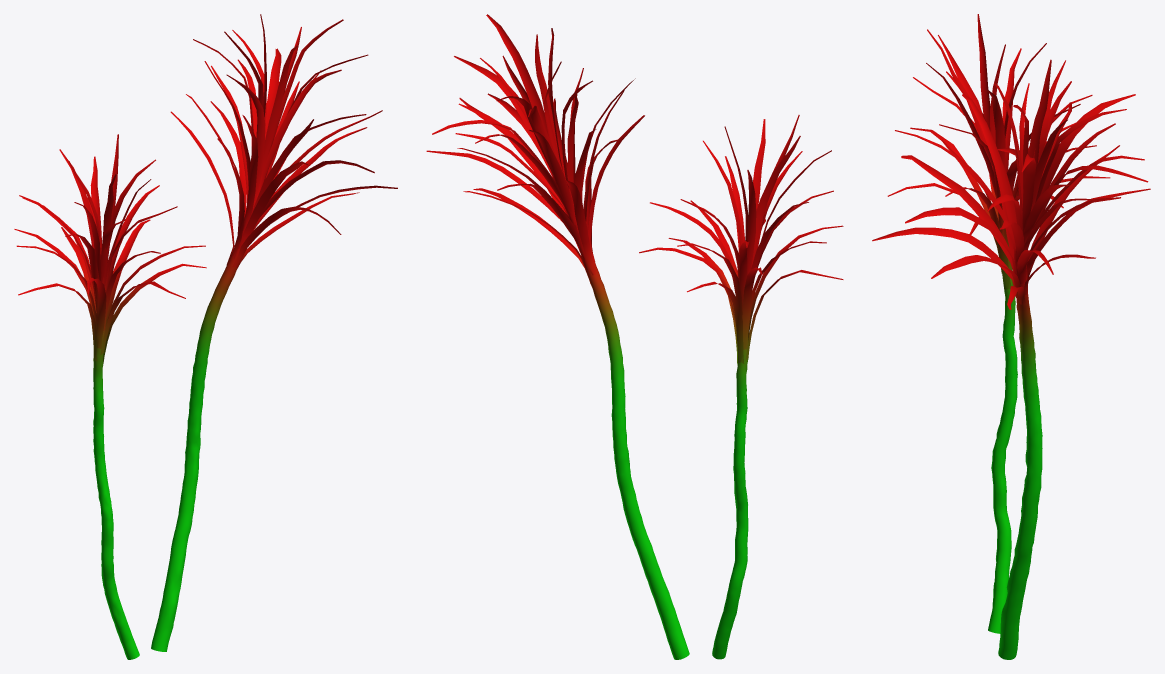
File: Dragon Tree_LOD1_Var5_wfypejzha.fbx
3 views of the same model, side by side, from view 1: azimuth 30°, elevation 25°; view 2: azimuth 150°, elevation 25°; view 3: azimuth 270°, elevation 25° (orthographic). The views are drawn at different scales.
Visible parts, largest first — view 1: _3iep_Var5_LOD1; view 2: _3iep_Var5_LOD1; view 3: _3iep_Var5_LOD1.
Part boxes in pixels (box(x1,y1,x2,y2)): _3iep_Var5_LOD1: box(14, 14, 397, 659); _3iep_Var5_LOD1: box(426, 14, 843, 659); _3iep_Var5_LOD1: box(872, 14, 1150, 659).
Size of the model in its own units: 64.31 by 96.62 by 36.81.
